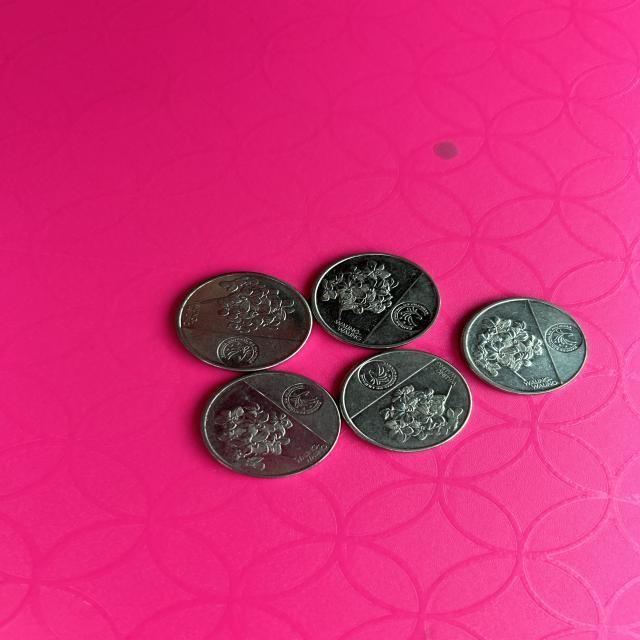1_New_Back: (457, 309, 553, 383), (211, 392, 300, 470), (204, 273, 304, 337), (375, 377, 458, 442), (313, 259, 392, 325)
